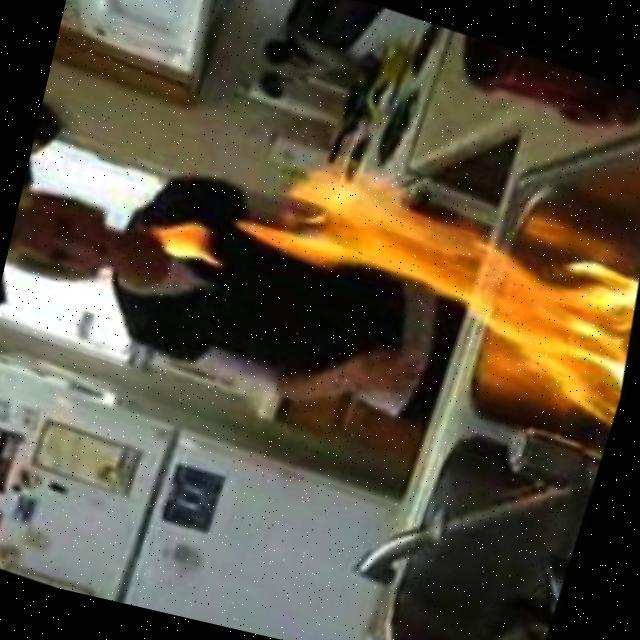fire: (202, 109, 640, 448), (154, 202, 230, 270)
